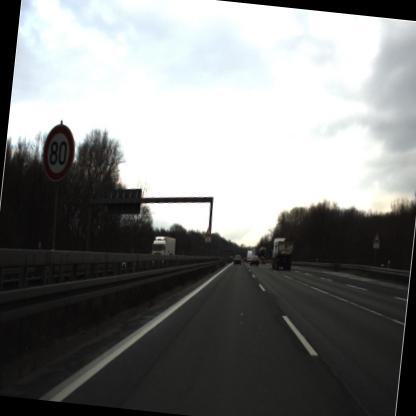prohibitory: (36, 118, 78, 186)
